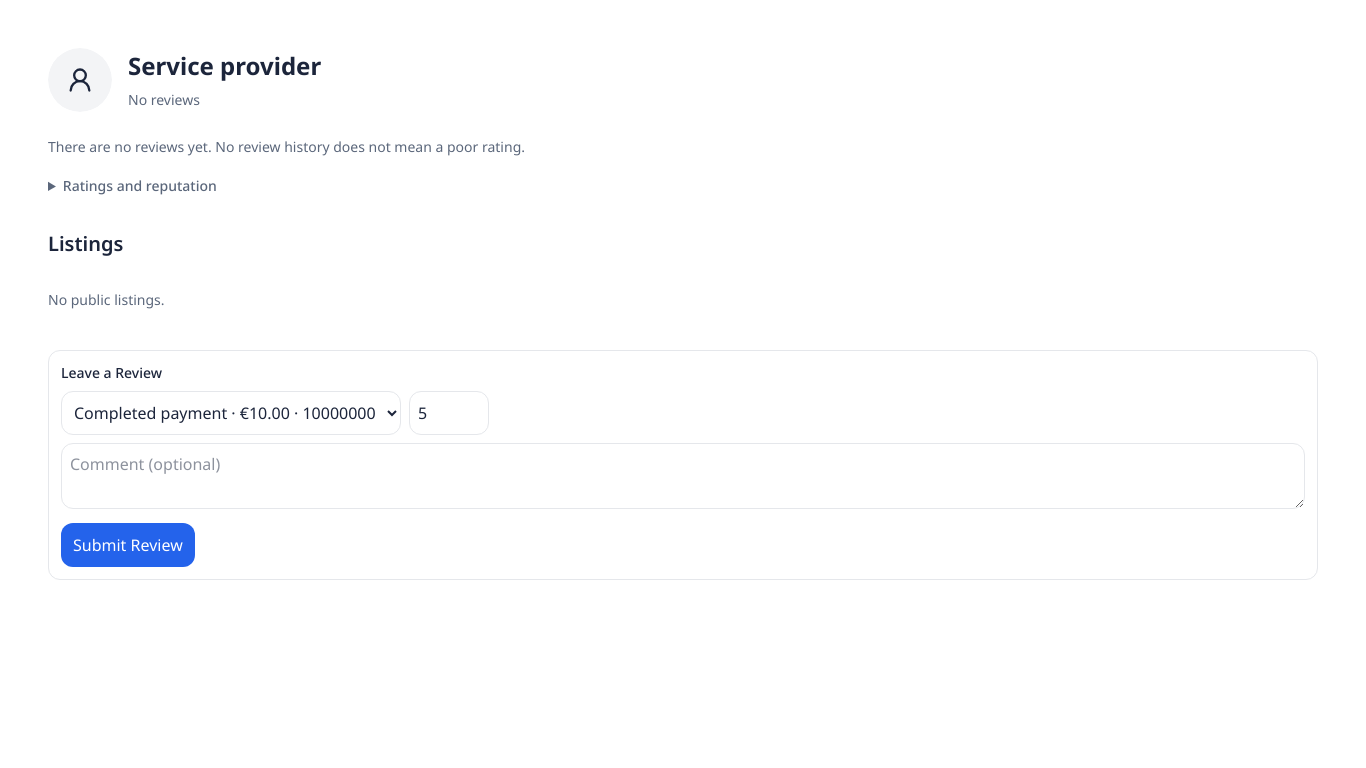
Test: Public profile reviews use the actual completed payment › rejects fractional ratings before submitting
Replace the text in the number field named "Rating" with "4.5". click: coordinates (449, 412)
box: [409,390,489,434]
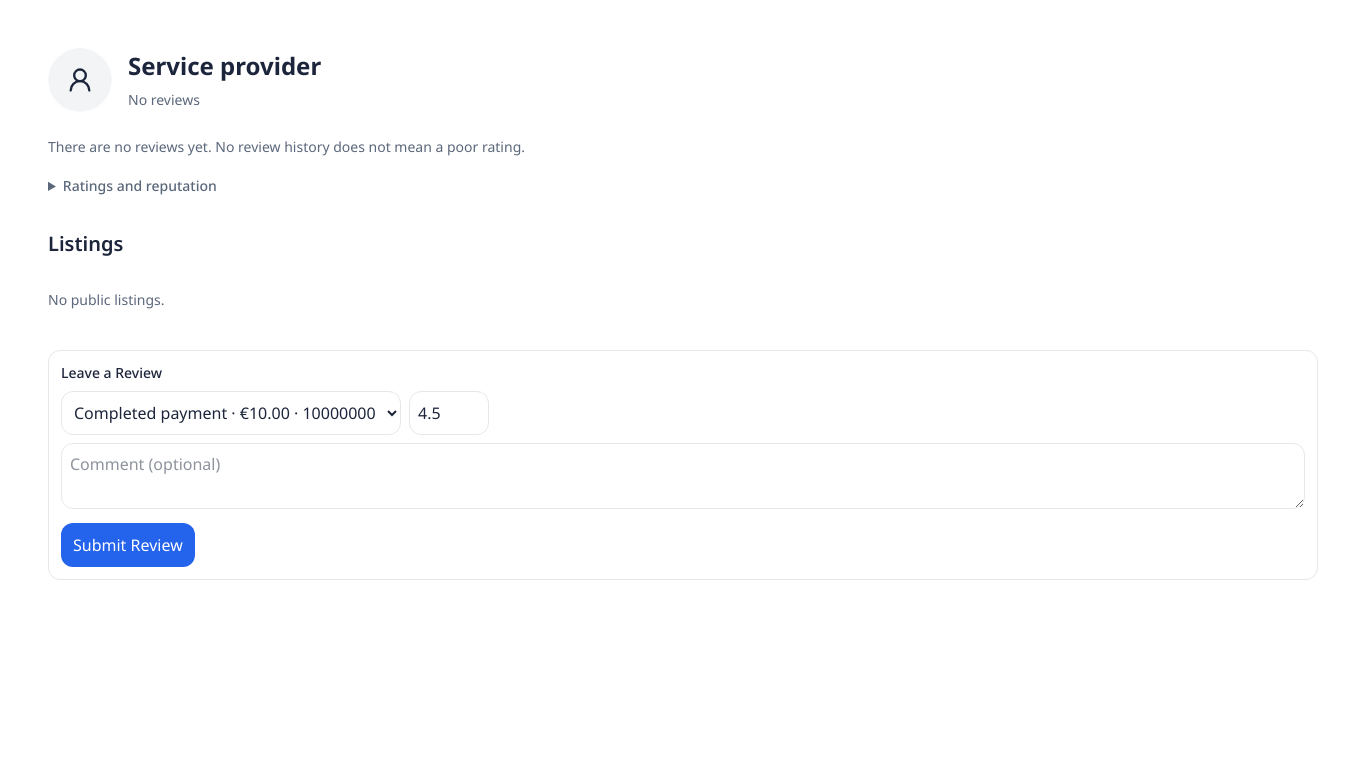
Click the button "Submit Review". click: coordinates (128, 544)
box: [61,522,195,566]
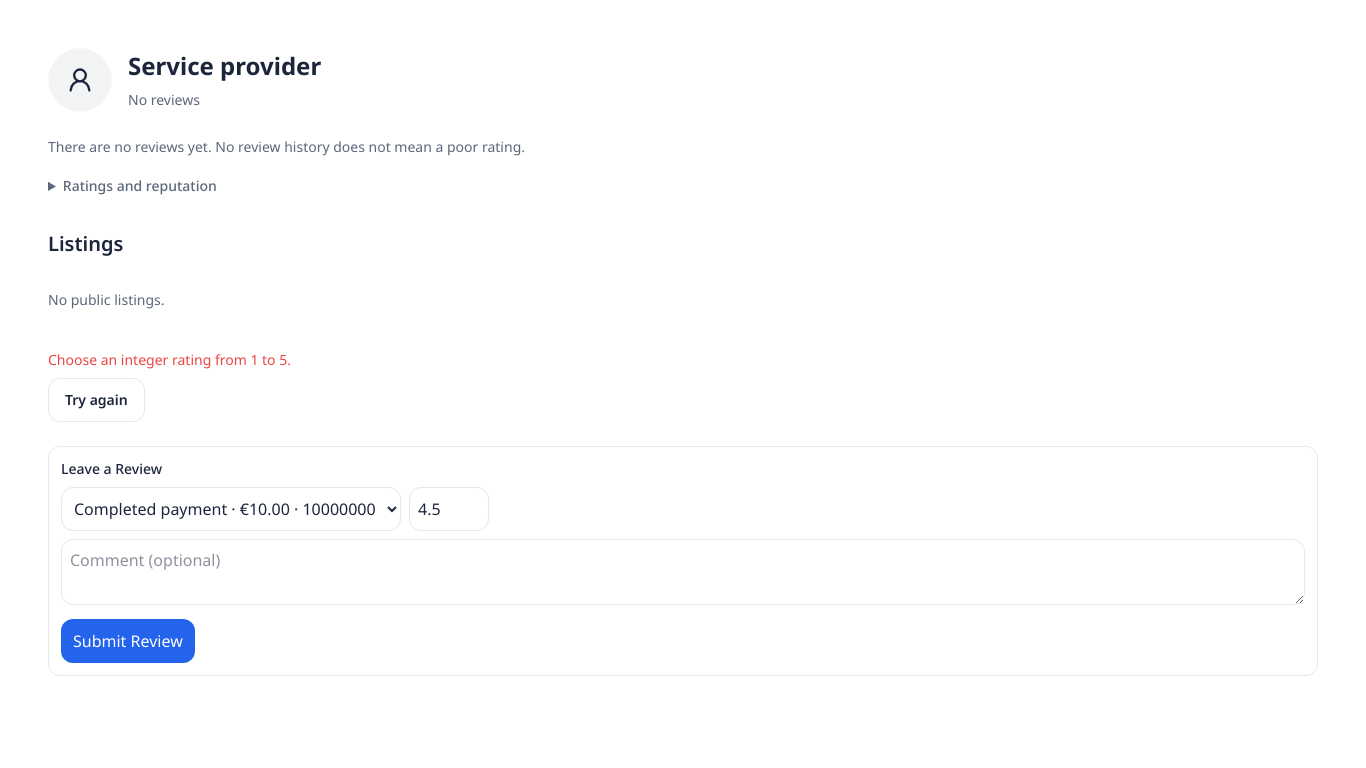
Expected: the message shows "integer rating", [48,350,291,368]
